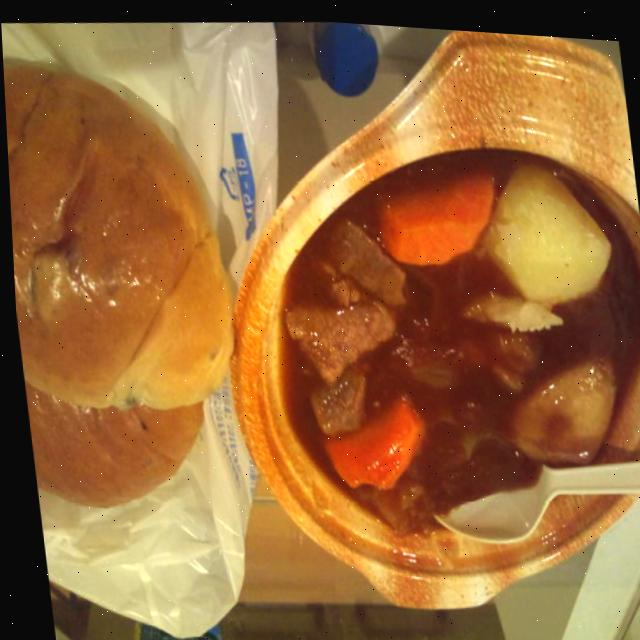汤锅炖物: (240, 119, 640, 581)
面包点心: (2, 38, 253, 428), (20, 385, 215, 523)
